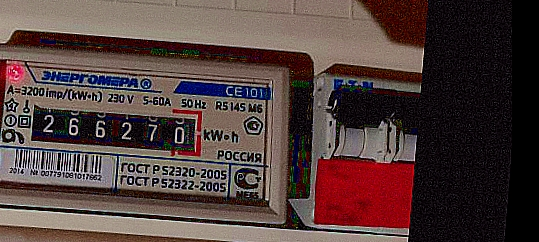0: (172, 124, 185, 145)
2: (40, 112, 56, 134), (119, 119, 133, 141)
6: (66, 116, 81, 137), (92, 118, 107, 138)
7: (144, 121, 158, 143)
screen: (20, 92, 211, 164)
